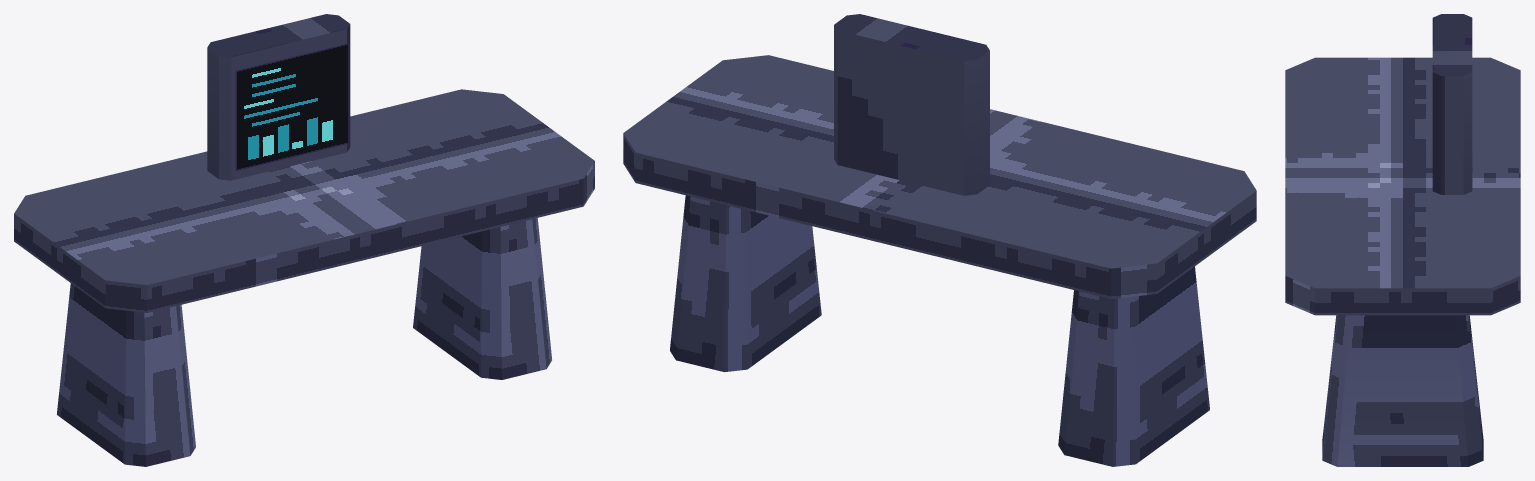
Rendered from cyroom.desk__single.glb.
The picture shows the model from 3 angles, left to right: view 1: azimuth 30°, elevation 25°; view 2: azimuth 150°, elevation 25°; view 3: azimuth 270°, elevation 25°; orthographic projection. The views are drawn at different scales.
Visible parts, largest first — view 1: kit_body, kit_card_details; view 2: kit_body; view 3: kit_body.
Part boxes in pixels (x1,y1,x2,y2): kit_body: (14,14,594,466); kit_card_details: (235,43,348,170); kit_body: (623,14,1256,466); kit_body: (1285,14,1520,466).
Size of the model in its own units: 2.2 by 1.43 by 0.95.
Materials: 4 (4 with a texture image).
